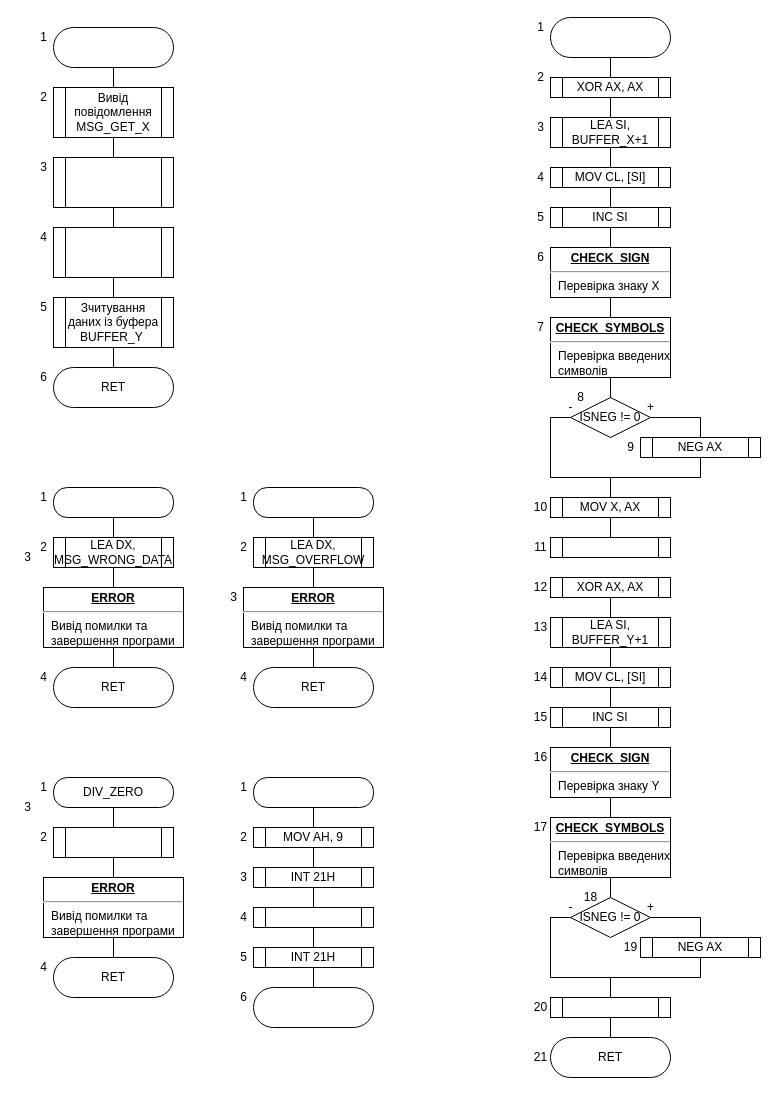
Image size: 778x1095. Some labels were removed from this diagram. Each missing label, with the box of its shape:
CHECKNUMS: (550, 16, 670, 58)
ERROR: (252, 776, 374, 808)
ERROR ENDP: (252, 986, 374, 1028)
INPUT: (52, 26, 174, 68)
LEA DX, MSG_DIV_ZERO: (52, 826, 174, 858)
MOV AX, 4C00H: (252, 906, 374, 928)
MOV ISNEG, 0: (550, 536, 670, 558)
MOV Y, AX: (550, 996, 670, 1018)
OVERFLOW: (252, 486, 374, 518)
WRONG_DATA: (52, 486, 174, 518)
Вивід повідомлення MSG_GET_Y: (52, 226, 174, 278)
Зчитування даних із буфера BUFFER_X: (52, 156, 174, 208)
